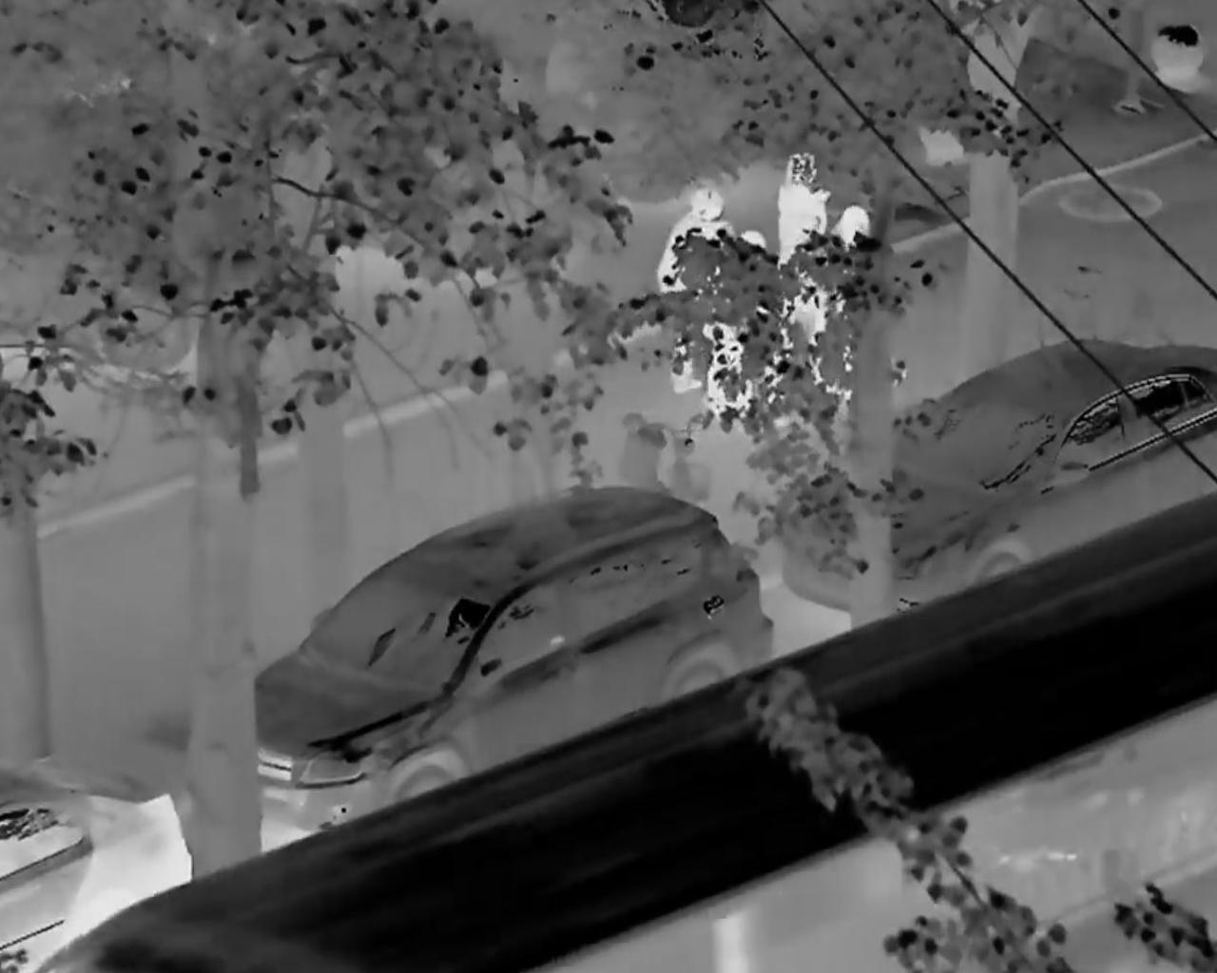person: (647, 179, 729, 395), (764, 148, 831, 386), (827, 214, 880, 388)
